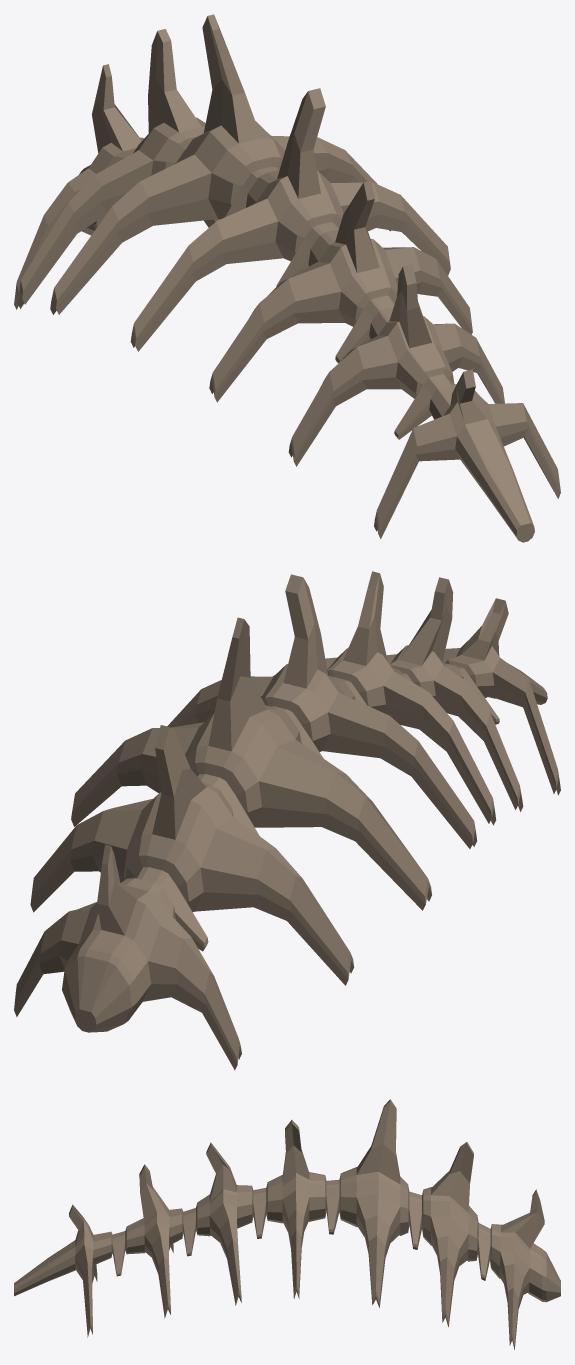
Rendered from dragons_ribs.fbx.
The picture shows the model from 3 angles, top to bottom: view 1: azimuth 30°, elevation 25°; view 2: azimuth 150°, elevation 25°; view 3: azimuth 270°, elevation 25°; orthographic projection. The views are drawn at different scales.
Parts seen in each view (by area): view 1: Cylinder; view 2: Cylinder; view 3: Cylinder.
Part boxes in pixels (box(x1,y1,x2,y2)): Cylinder: box(14, 14, 560, 542); Cylinder: box(14, 571, 560, 1070); Cylinder: box(14, 1099, 560, 1349).
Size of the model in its own units: 984 by 940 by 2169.
